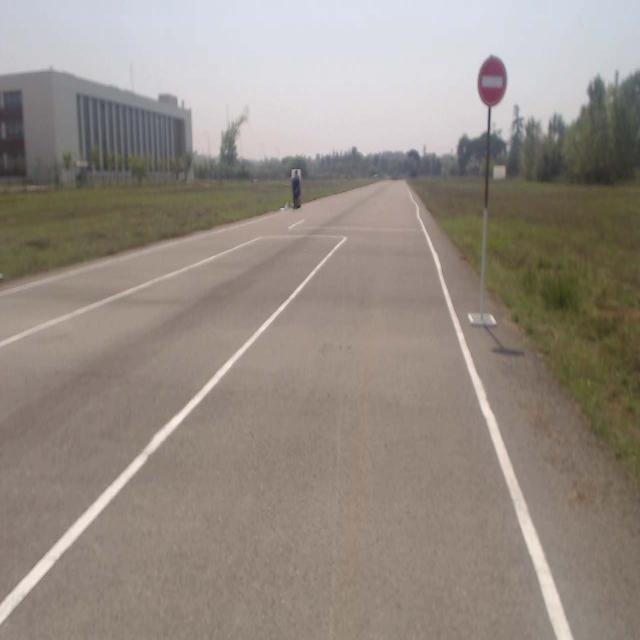girisyok: (477, 57, 509, 107)
